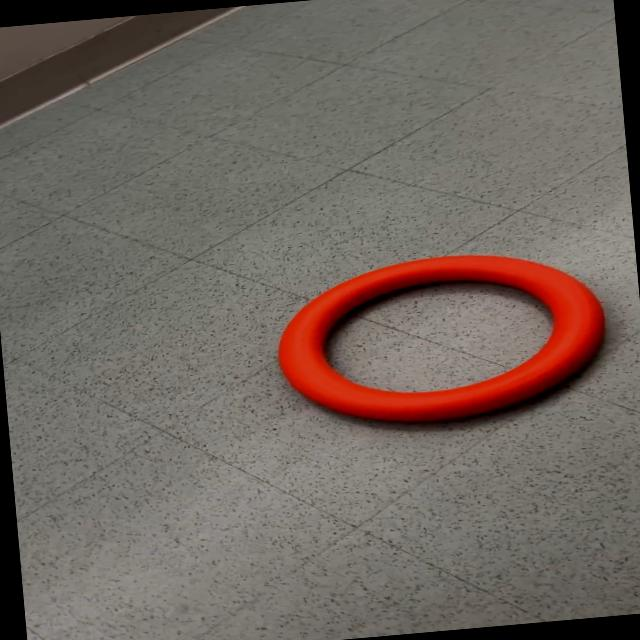note: (268, 240, 614, 436)
